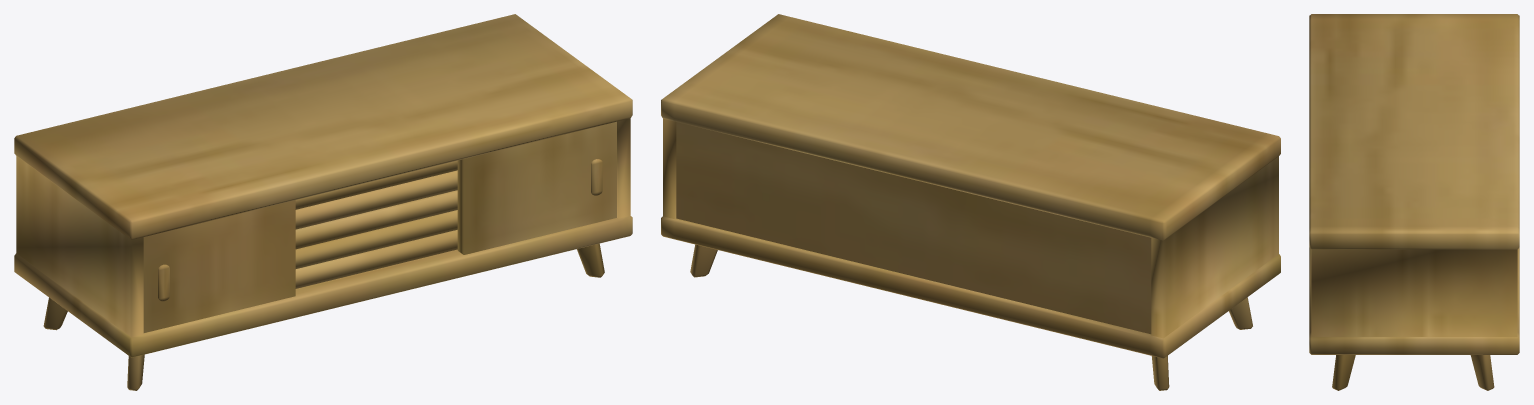
3 renders of one model, left to right at view 1: azimuth 30°, elevation 25°; view 2: azimuth 150°, elevation 25°; view 3: azimuth 270°, elevation 25°, orthographic. The views are drawn at different scales.
Bounding box in the file's own units: 17.18 × 6.01 × 6.95.
1 material, 1 textured.
